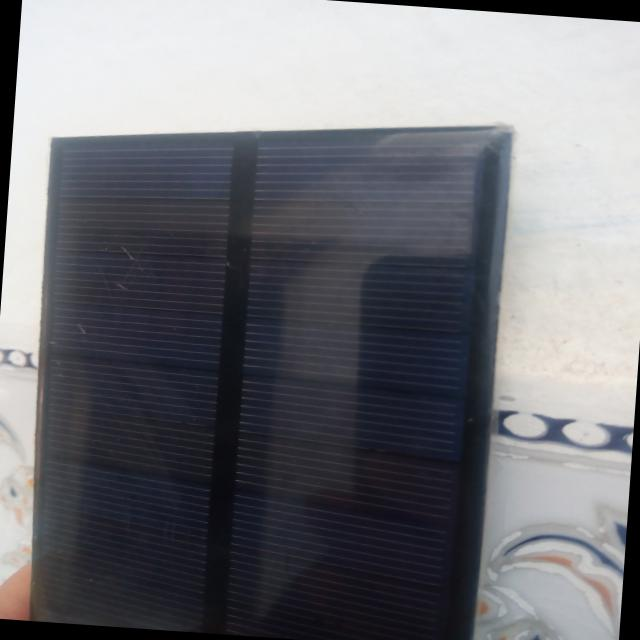no faulty: (30, 136, 510, 640)
